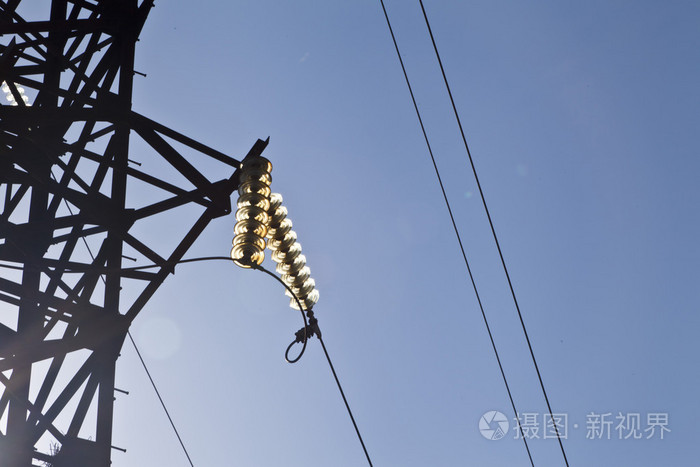insulator: (267, 196, 319, 312), (231, 158, 274, 269)
